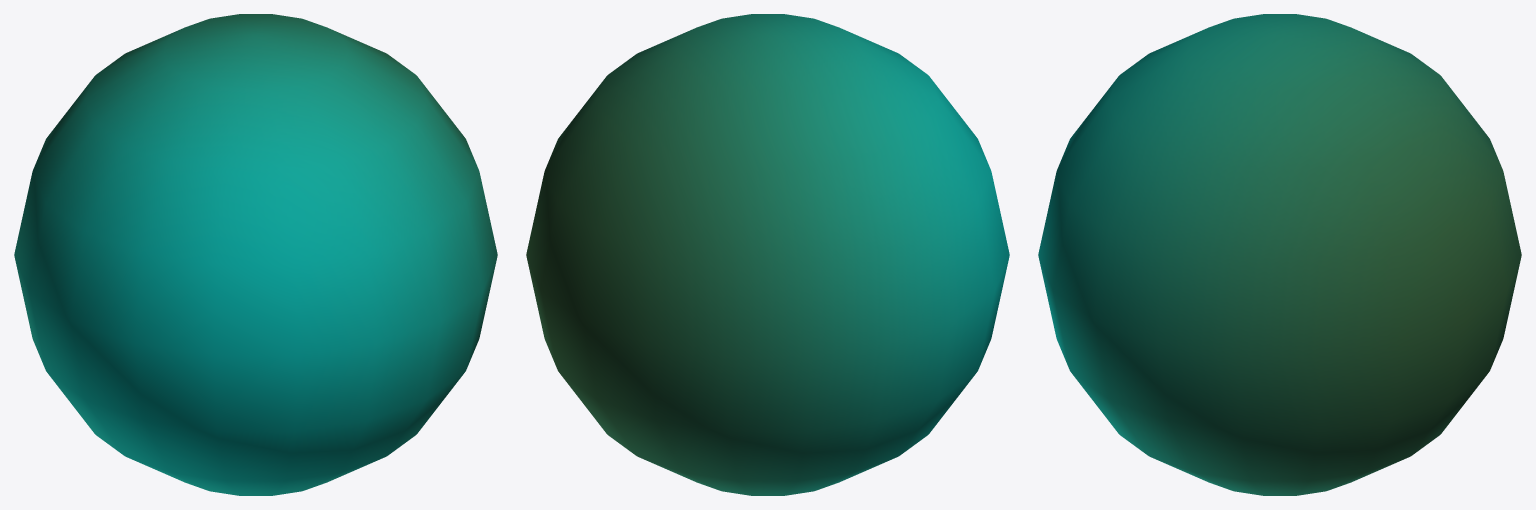
The model's file is Aquamarine.fbx.
3 renders of one model, left to right at view 1: azimuth 30°, elevation 25°; view 2: azimuth 150°, elevation 25°; view 3: azimuth 270°, elevation 25°, orthographic.
Visible parts, largest first — view 1: AQUAMARINE.001; view 2: AQUAMARINE.001; view 3: AQUAMARINE.001.
Boxes of the visible parts, <box> form: AQUAMARINE.001: <box>14,14,497,495</box>; AQUAMARINE.001: <box>526,14,1009,495</box>; AQUAMARINE.001: <box>1038,14,1521,495</box>.
Bounding box in the file's own units: 240 × 244 × 244.
Materials: 1 (1 with a texture image).
